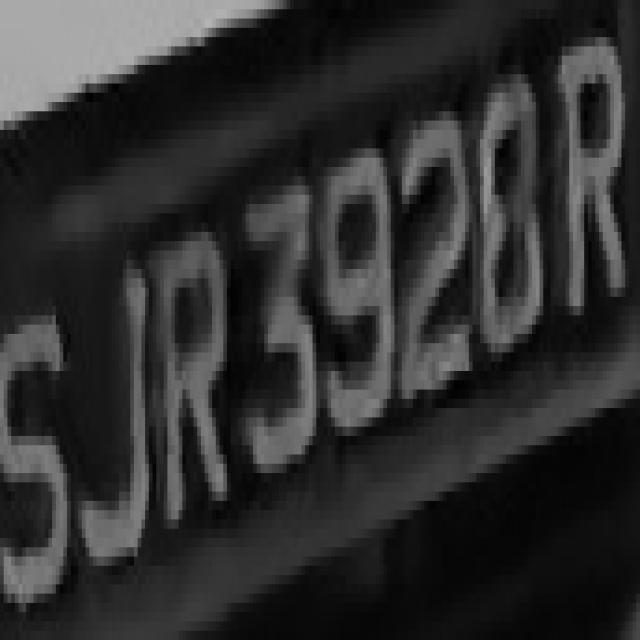2: (383, 102, 480, 427)
3: (230, 158, 312, 482)
8: (465, 56, 555, 390)
9: (309, 130, 394, 482)
J: (78, 204, 145, 640)
R: (145, 214, 231, 556), (543, 37, 629, 343)
S: (0, 4, 1, 10)
